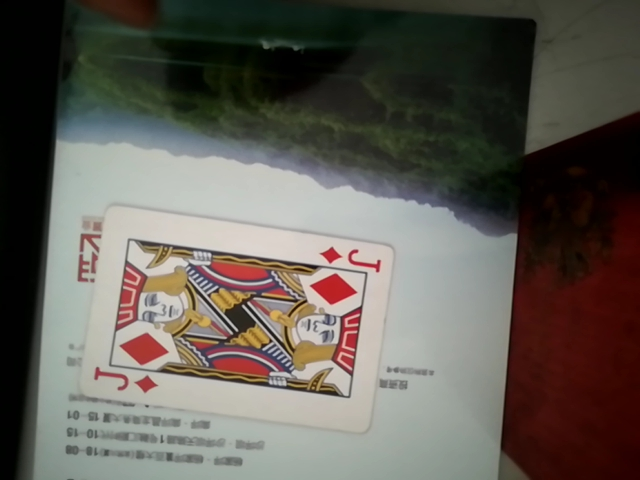fk j: (86, 211, 398, 426)
